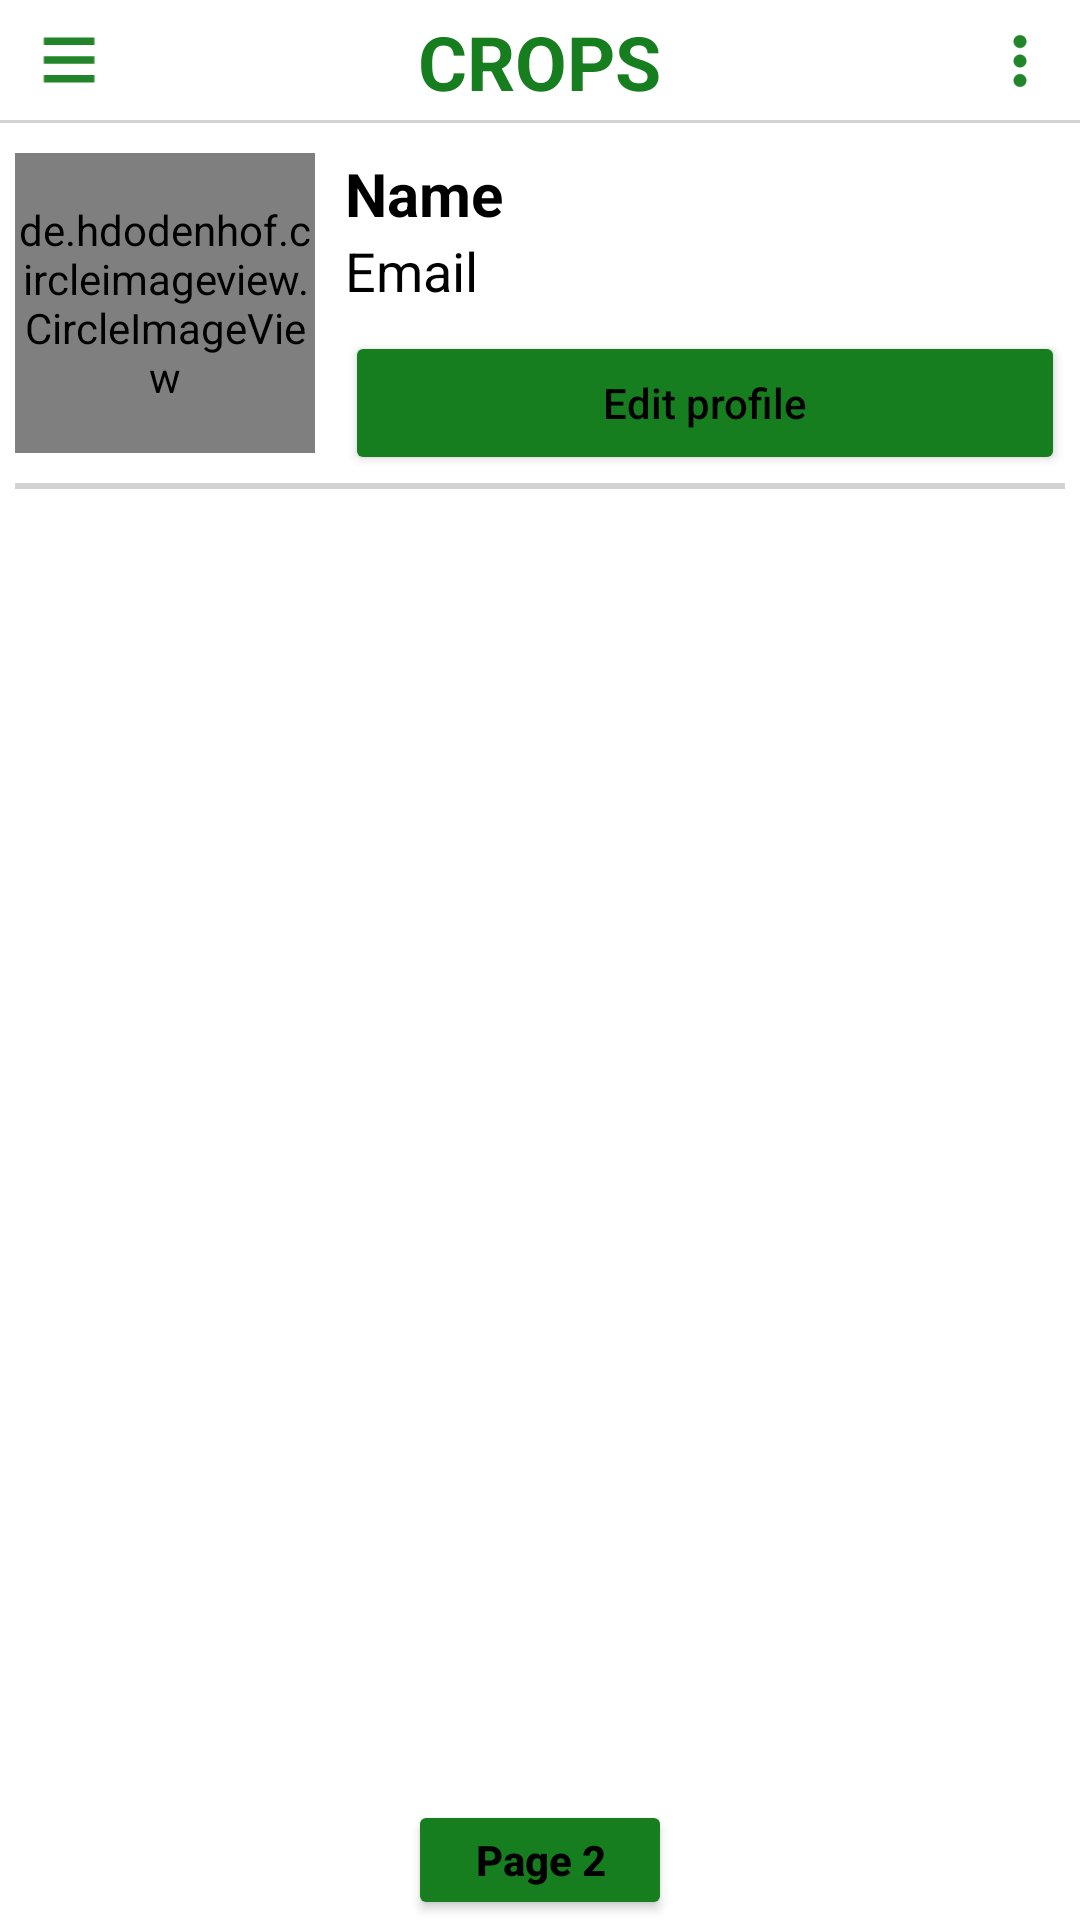

Point at icon controls on the screen. Image size 1080px×1920px, points as [x,y].
menu: [69,60]
three dot: [1020,61]
